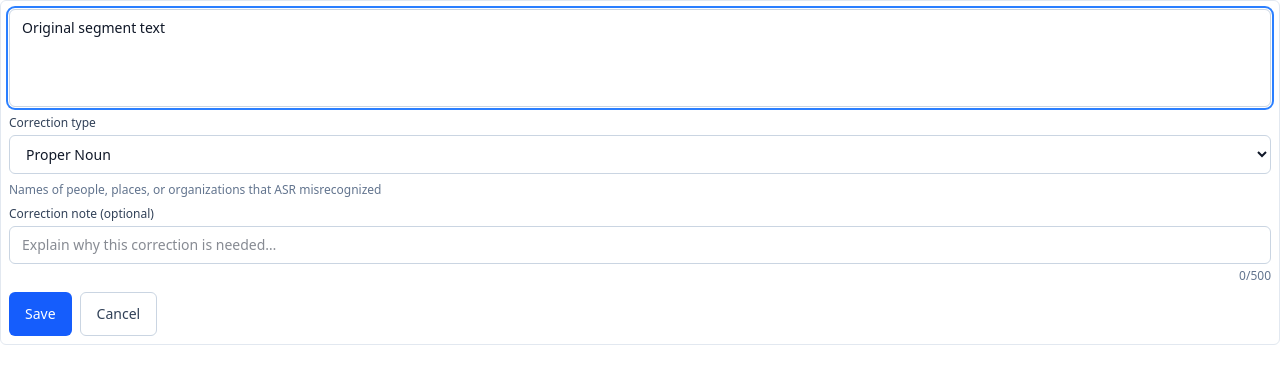
Test: SegmentEditForm › Test 8 — Validation error clears on next keystroke › clears validation error when user types in the textarea after a failed save
This screenshot has width=1280, height=386.
// Trigger validation error by clearing and saving
Clear the text box named "edit segment text" at (640, 58), box [9,9,1271,107]
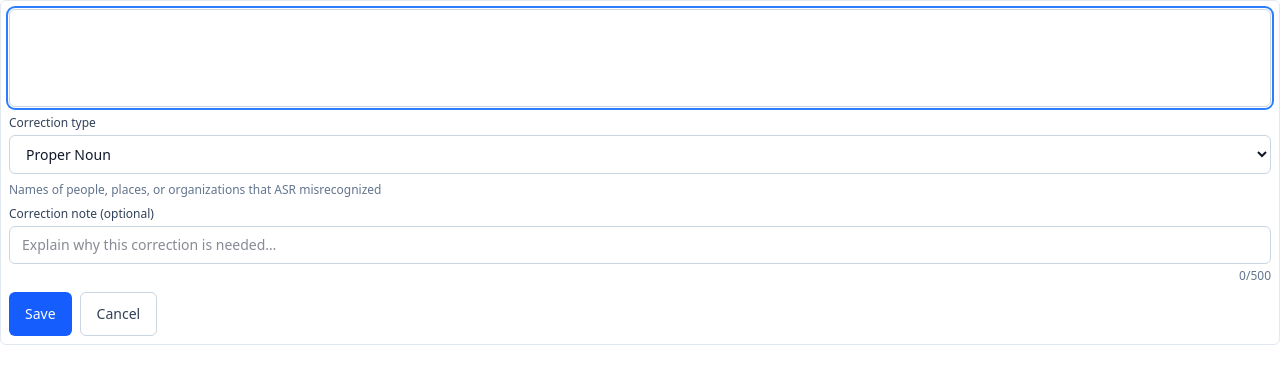
Click the button "Save" at (40, 314), box [9,292,72,336]
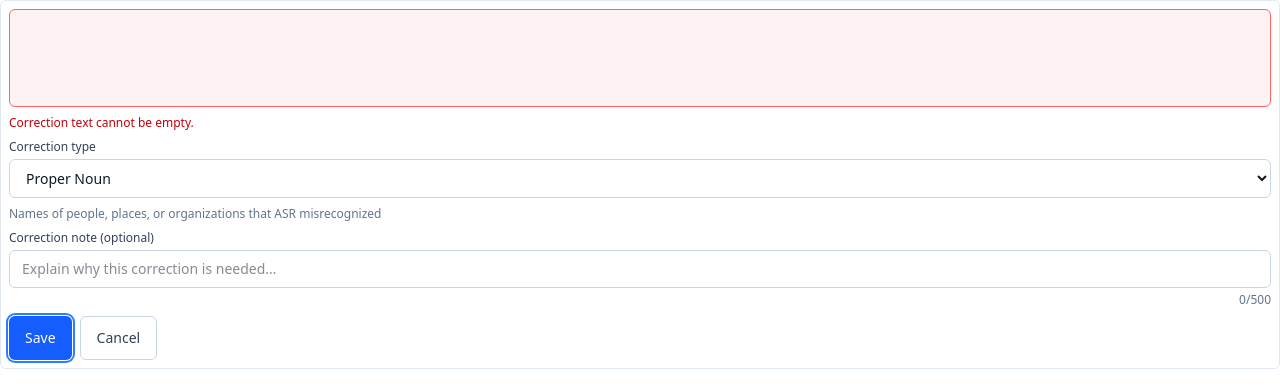
Check: the text "Correction text cannot be empty." is shown, box [9,114,194,131]
// Now type something to clear the error
Type "a" into the text box named "edit segment text" at (640, 58), box [9,9,1271,107]
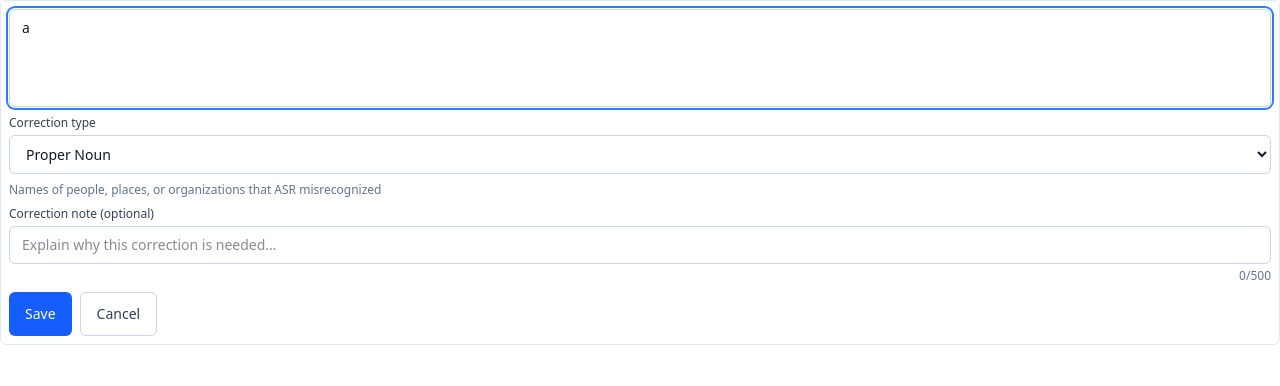
Check: the text "Correction text cannot be empty." is gone
